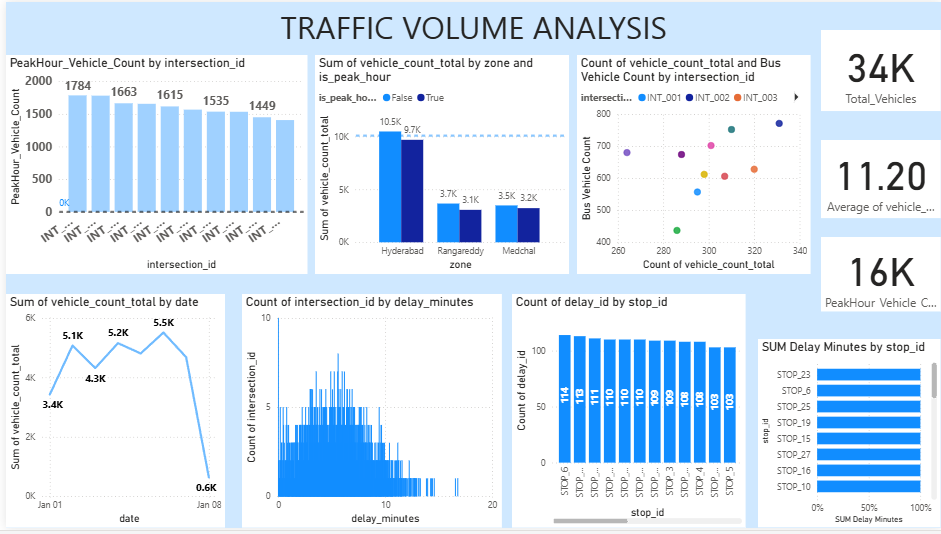

Layout of this report page (visuals, bound fields, positions):
{"tool":"powerbi","page":{"name":"Page 1","canvas":[1280,720],"ordinal":0},"visuals":[{"type":"columnChart","fields":{"Category":["Traffic_Volume_Log.intersection_id"],"Y":["Traffic_Volume_Log.PeakHour_Vehicle_Count"]},"box":[0,72.7,412.8,299.9],"z":0},{"type":"lineChart","fields":{"Category":["Traffic_Volume_Log.date"],"Y":["Sum(Traffic_Volume_Log.vehicle_count_total)"]},"box":[0,400.4,299.9,320],"z":1},{"type":"clusteredColumnChart","fields":{"Category":["Traffic_Volume_Log.zone"],"Y":["Sum(Traffic_Volume_Log.vehicle_count_total)"],"Series":["Traffic_Volume_Log.is_peak_hour"]},"box":[423.6,72.7,347.8,299.9],"z":2},{"type":"clusteredColumnChart","fields":{"Category":["Public_Transport_Delay_Log.delay_minutes"],"Y":["Count(Public_Transport_Delay_Log.intersection_id)"]},"box":[323.1,400.4,355.6,320],"z":3},{"type":"scatterChart","fields":{"X":["CountNonNull(Traffic_Volume_Log.vehicle_count_total)"],"Y":["Traffic_Volume_Log.Bus Vehicle Count"],"Series":["Traffic_Volume_Log.intersection_id"]},"box":[782.2,72.7,320,299.9],"z":4},{"type":"card","fields":{"Values":["Avg(Traffic_Volume_Log.vehicle_count_total)"]},"box":[1116.1,188.6,163.9,106.7],"z":5},{"type":"card","fields":{"Values":["Traffic_Volume_Log.Total_Vehicles"]},"box":[1116.1,38.6,163.9,111.3],"z":6},{"type":"card","fields":{"Values":["Traffic_Volume_Log.PeakHour_Vehicle_Count"]},"box":[1116.1,321.5,163.9,102],"z":7},{"type":"textbox","box":[252,0,777.6,72.7],"z":8},{"type":"clusteredColumnChart","fields":{"Category":["Public_Transport_Delay_Log.stop_id"],"Y":["CountNonNull(Public_Transport_Delay_Log.delay_id)"]},"box":[692.6,400.4,320,320],"z":9},{"type":"hundredPercentStackedBarChart","fields":{"Category":["Public_Transport_Delay_Log.stop_id"],"Y":["Public_Transport_Delay_Log.SUM Delay Minutes"]},"box":[1029.6,462.2,250.4,258.2],"z":10}]}

Visuals, with their boxes in screenshot pixels (x1, y1, x2, y2), scaled from the page's 1280x720 canvas onto the 941x534 screenshot:
columnChart - Traffic_Volume_Log.intersection_id x Traffic_Volume_Log.PeakHour_Vehicle_Count: [0,54,303,276]
lineChart - Traffic_Volume_Log.date x Sum(Traffic_Volume_Log.vehicle_count_total): [0,297,220,533]
clusteredColumnChart - Traffic_Volume_Log.zone x Sum(Traffic_Volume_Log.vehicle_count_total): [311,54,567,276]
clusteredColumnChart - Public_Transport_Delay_Log.delay_minutes x Count(Public_Transport_Delay_Log.intersection_id): [238,297,499,533]
scatterChart - CountNonNull(Traffic_Volume_Log.vehicle_count_total) x Traffic_Volume_Log.Bus Vehicle Count: [575,54,810,276]
card - Avg(Traffic_Volume_Log.vehicle_count_total): [821,140,940,219]
card - Traffic_Volume_Log.Total_Vehicles: [821,29,940,111]
card - Traffic_Volume_Log.PeakHour_Vehicle_Count: [821,238,940,314]
textbox: [185,0,757,54]
clusteredColumnChart - Public_Transport_Delay_Log.stop_id x CountNonNull(Public_Transport_Delay_Log.delay_id): [509,297,744,533]
hundredPercentStackedBarChart - Public_Transport_Delay_Log.stop_id x Public_Transport_Delay_Log.SUM Delay Minutes: [757,343,940,533]
